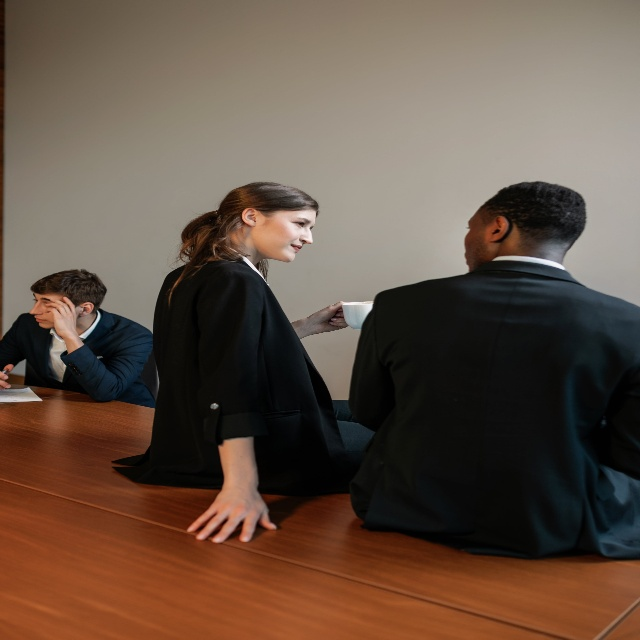Sin_guantes: (185, 483, 277, 541), (46, 291, 84, 345), (311, 298, 351, 335), (0, 360, 14, 392)
